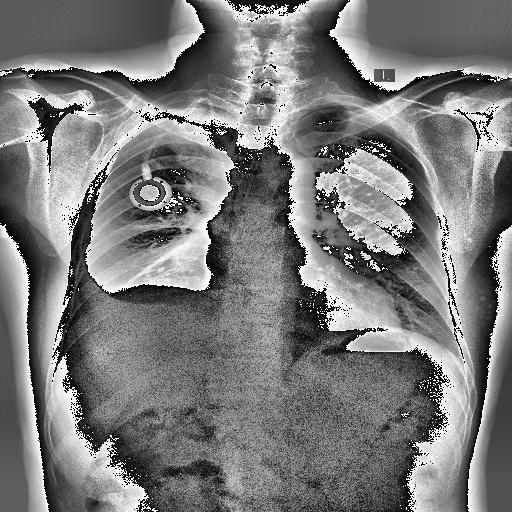10- Pleural effusion: (64, 220, 213, 379), (74, 244, 194, 350), (54, 261, 204, 341)
11- Pleural thickening: (134, 98, 212, 128)
13- Pulmonary fibrosis: (130, 216, 216, 282), (127, 232, 191, 288), (126, 232, 194, 278)
7- Lung Opacity: (136, 102, 237, 136), (95, 280, 207, 306), (111, 279, 195, 311)
9- Other lesion: (470, 272, 504, 332)
